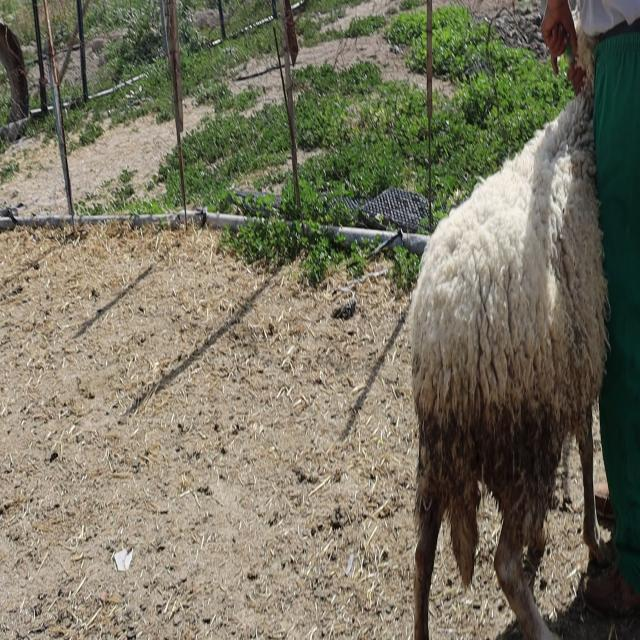Score_4: (409, 25, 610, 639)
